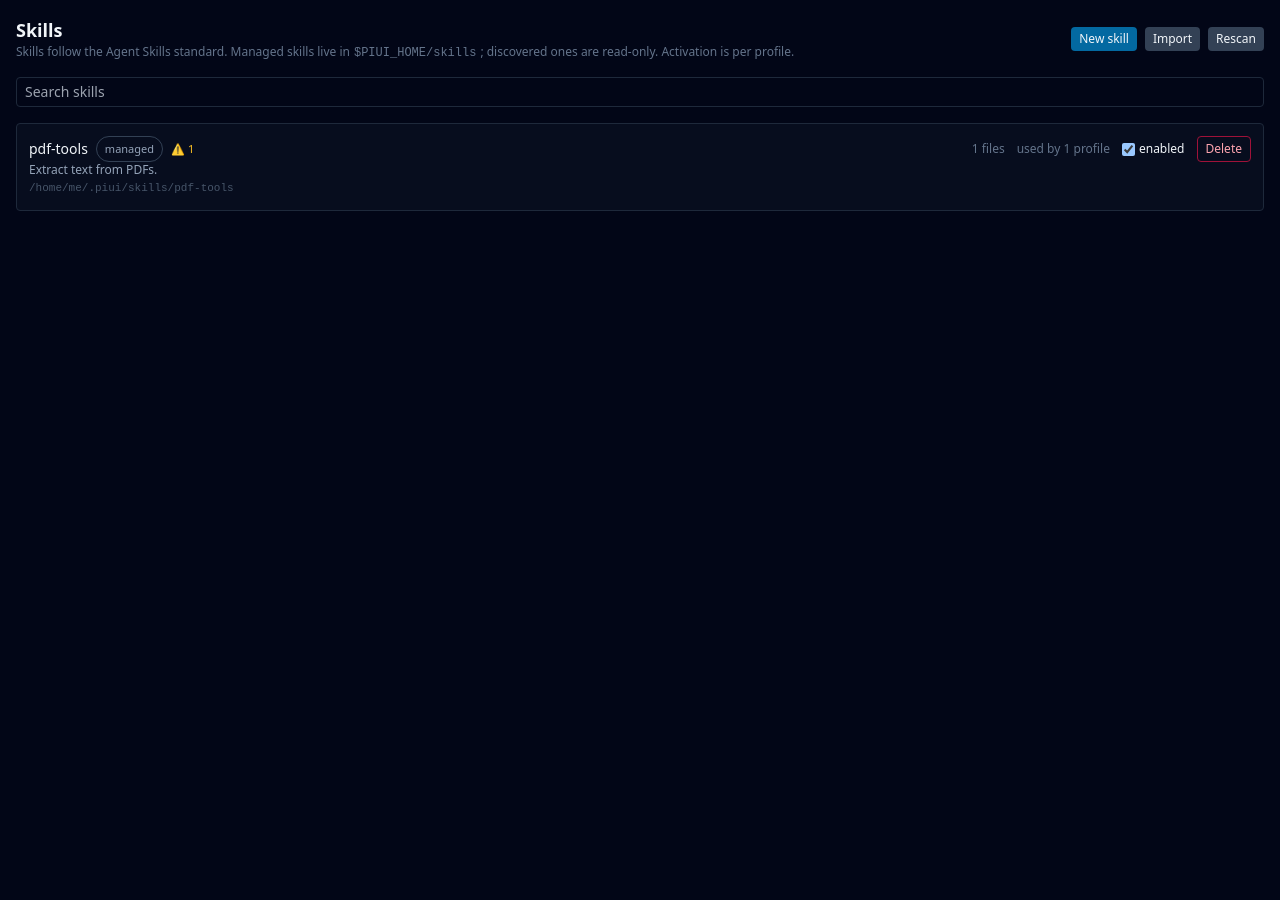
Test: SkillsPage › [05-skills-and-tools#B.5.5] shows a refused save next to the Save button, not only at the page top
Click the button with test id "skill-open-pdf-tools" at (58, 148), box [29,136,960,198]
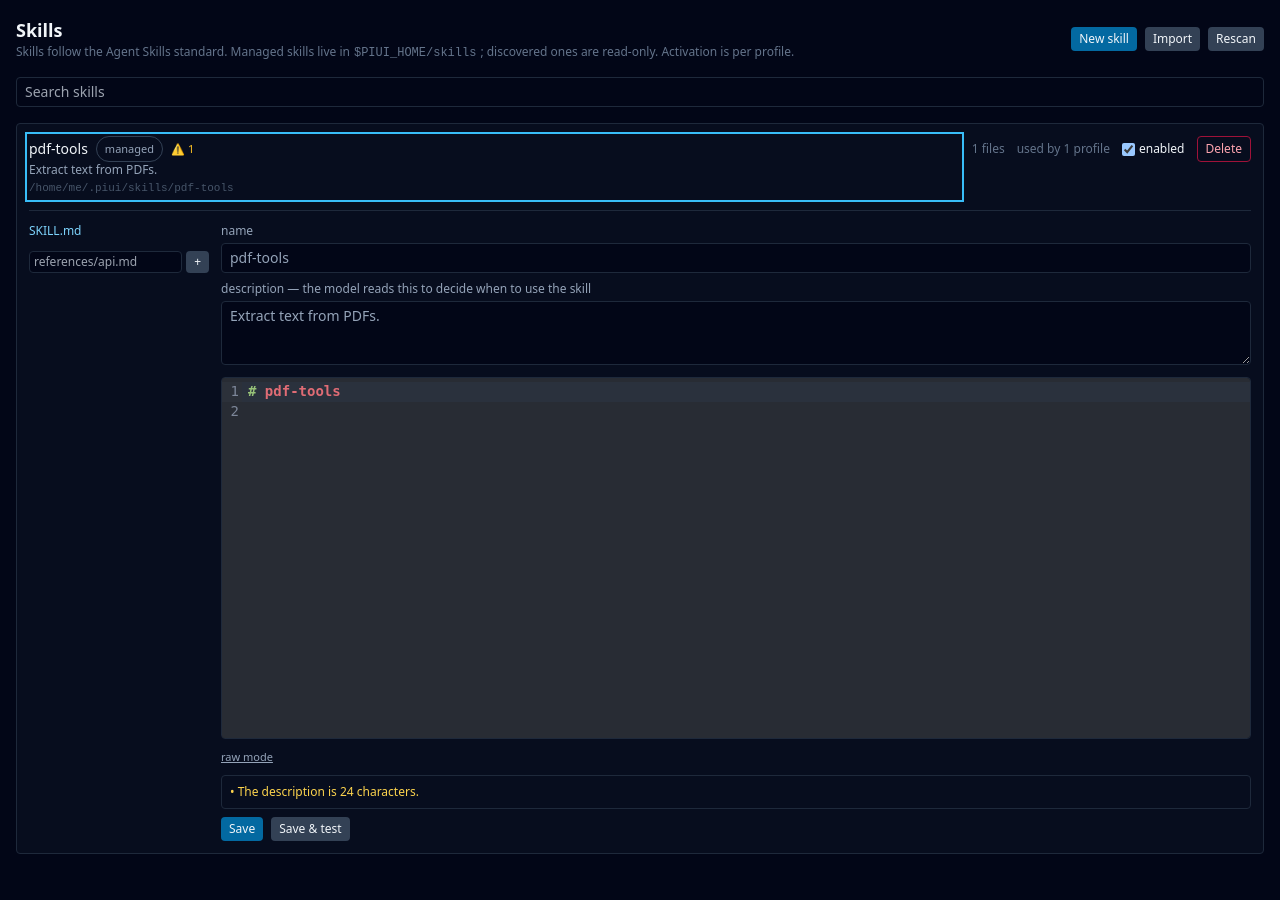
Clear the text box with test id "skill-description" at (736, 333), box [221,301,1251,365]
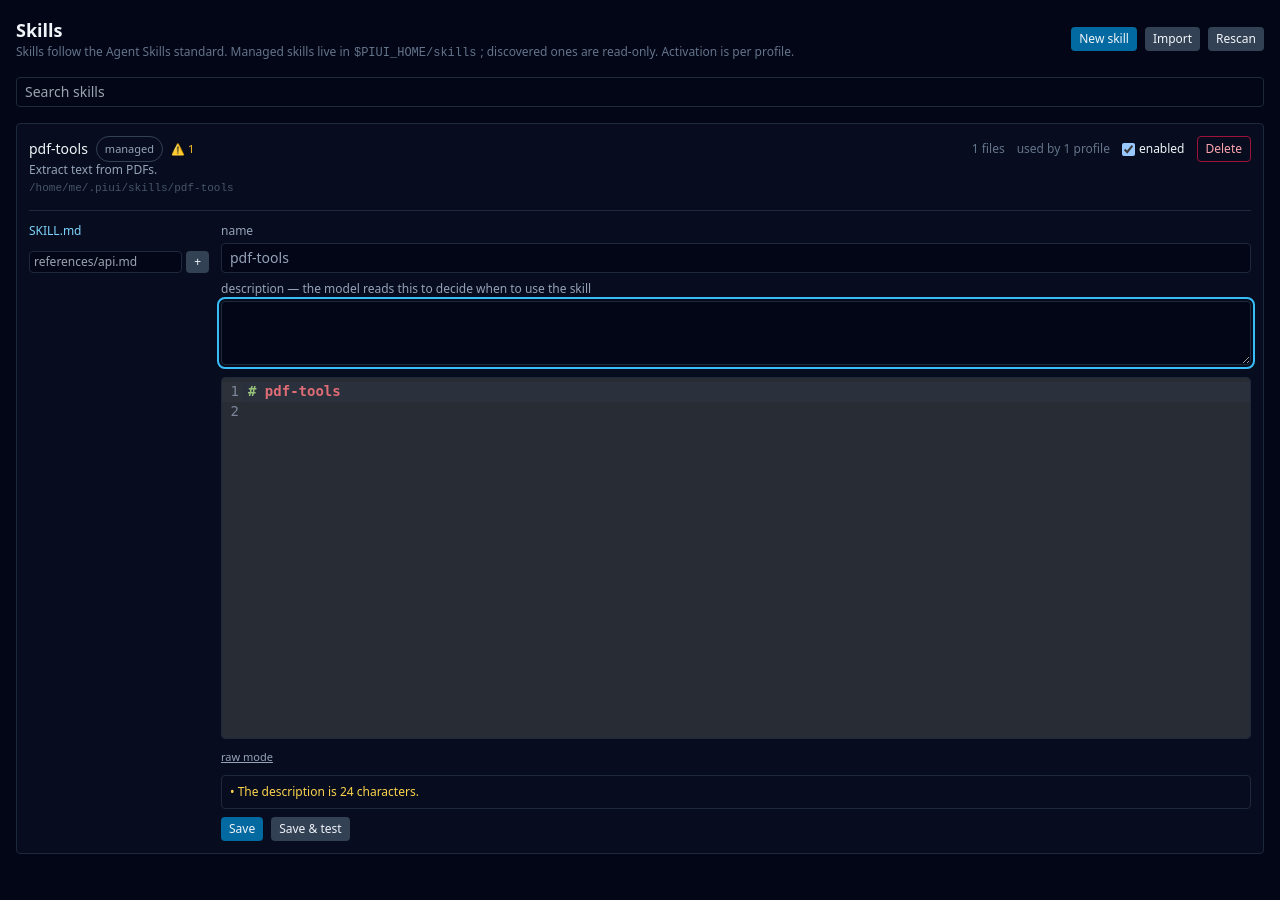
Click the button with test id "skill-save" at (242, 829), box [221,817,263,841]
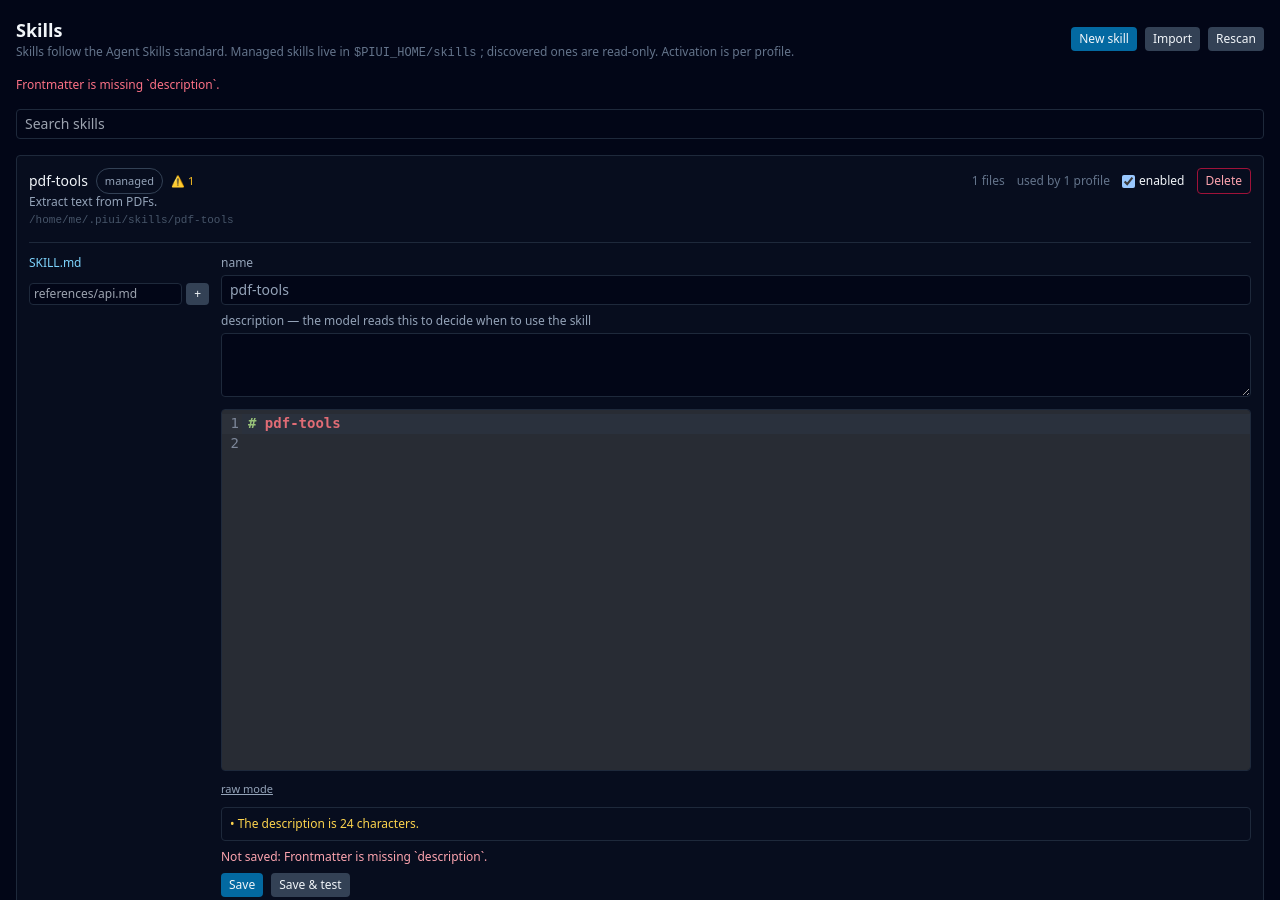
Now the text with test id "skill-save-error" shows "description", box [284,848,487,865]
